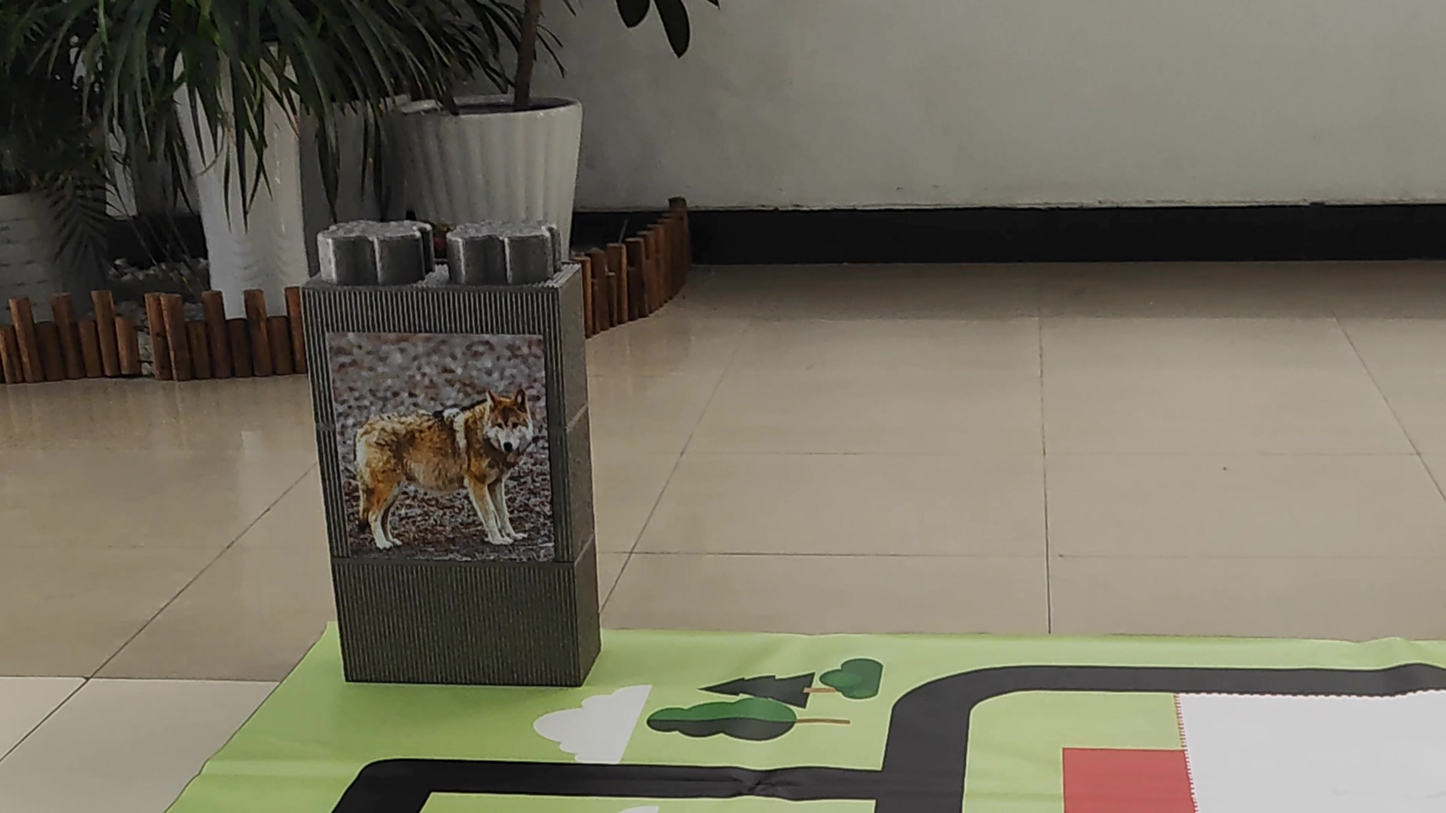wolf: (326, 369, 554, 568)
